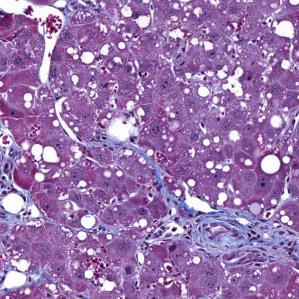fibrosis: (169, 208, 292, 268)
